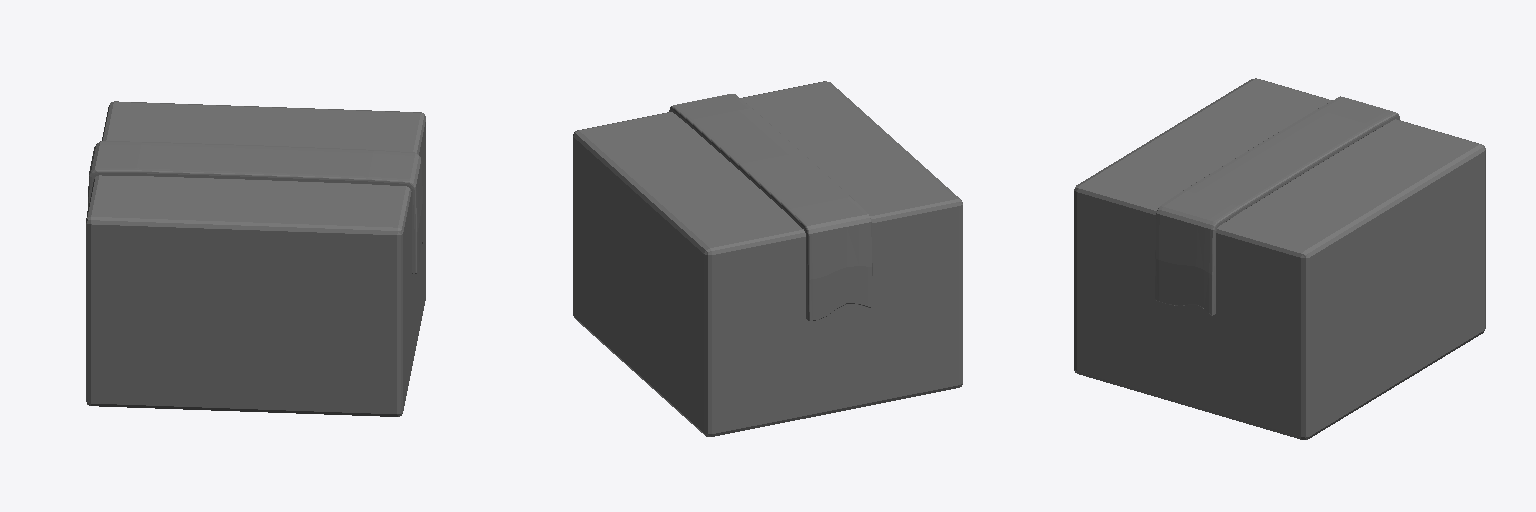
File: Colis.obj
3 views of the same model, side by side, from view 1: azimuth 30°, elevation 25°; view 2: azimuth 150°, elevation 25°; view 3: azimuth 270°, elevation 25° (orthographic).
Parts seen in each view (by area): view 1: colis_Mesh.014, pCube7_Mesh.013; view 2: colis_Mesh.014, pCube7_Mesh.013; view 3: colis_Mesh.014, pCube7_Mesh.013.
Boxes of the visible parts, x1=… form: colis_Mesh.014: x1=86, y1=101, x2=425, y2=416; pCube7_Mesh.013: x1=87, y1=141, x2=422, y2=273; colis_Mesh.014: x1=573, y1=81, x2=962, y2=436; pCube7_Mesh.013: x1=669, y1=94, x2=872, y2=320; colis_Mesh.014: x1=1074, y1=78, x2=1485, y2=439; pCube7_Mesh.013: x1=1155, y1=96, x2=1399, y2=315.
Size of the model in its own units: 1.19 by 0.613 by 1.17.